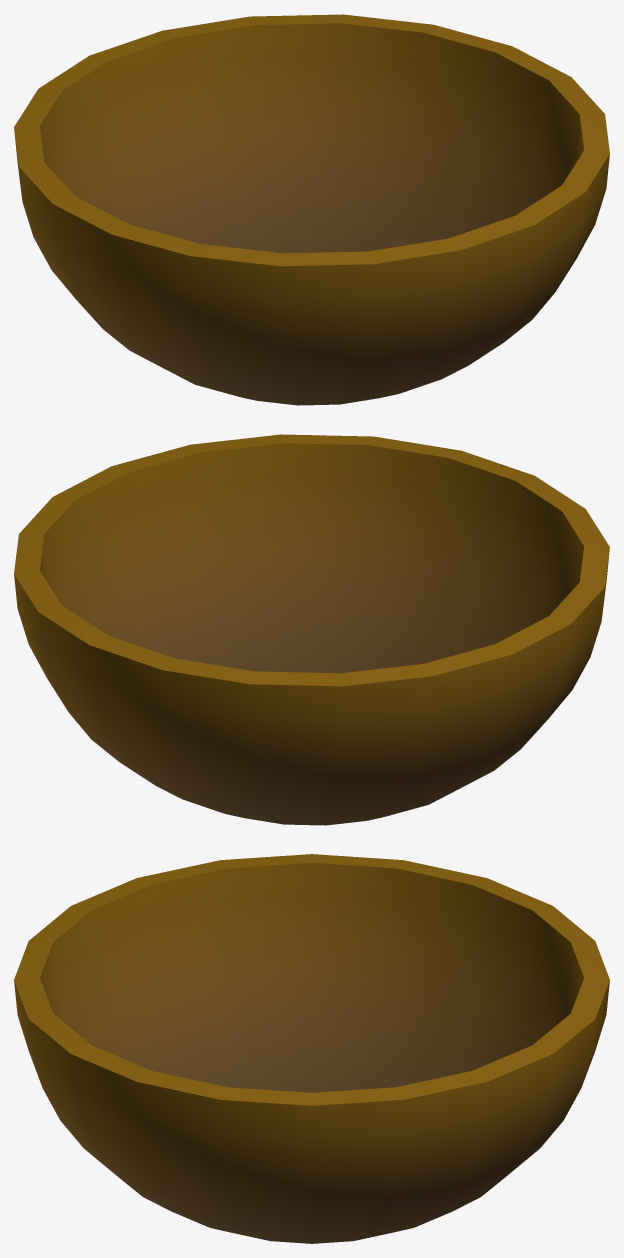
The model's file is SM_Bowl_01.fbx.
The picture shows the model from 3 angles, top to bottom: view 1: azimuth 30°, elevation 25°; view 2: azimuth 150°, elevation 25°; view 3: azimuth 270°, elevation 25°; orthographic projection.
Parts seen in each view (by area): view 1: SM_Bowl_01; view 2: SM_Bowl_01; view 3: SM_Bowl_01.
Boxes of the visible parts, x1=… form: SM_Bowl_01: x1=14, y1=14, x2=609, y2=405; SM_Bowl_01: x1=14, y1=434, x2=609, y2=825; SM_Bowl_01: x1=14, y1=854, x2=609, y2=1243.
Size of the model in its own units: 42.94 by 18.64 by 42.94.
